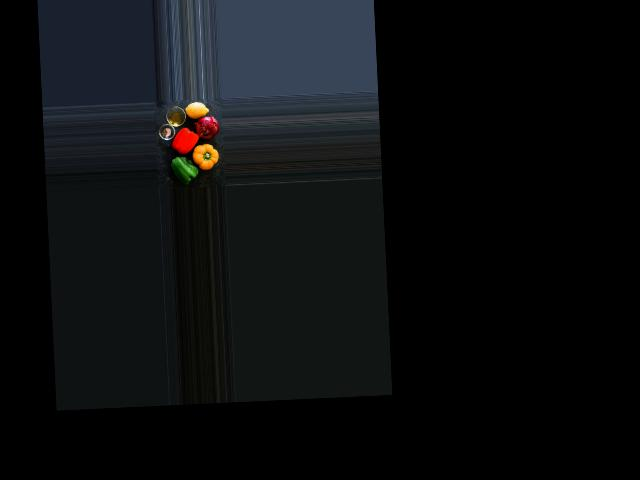bell_pepper: (170, 127, 200, 154)
